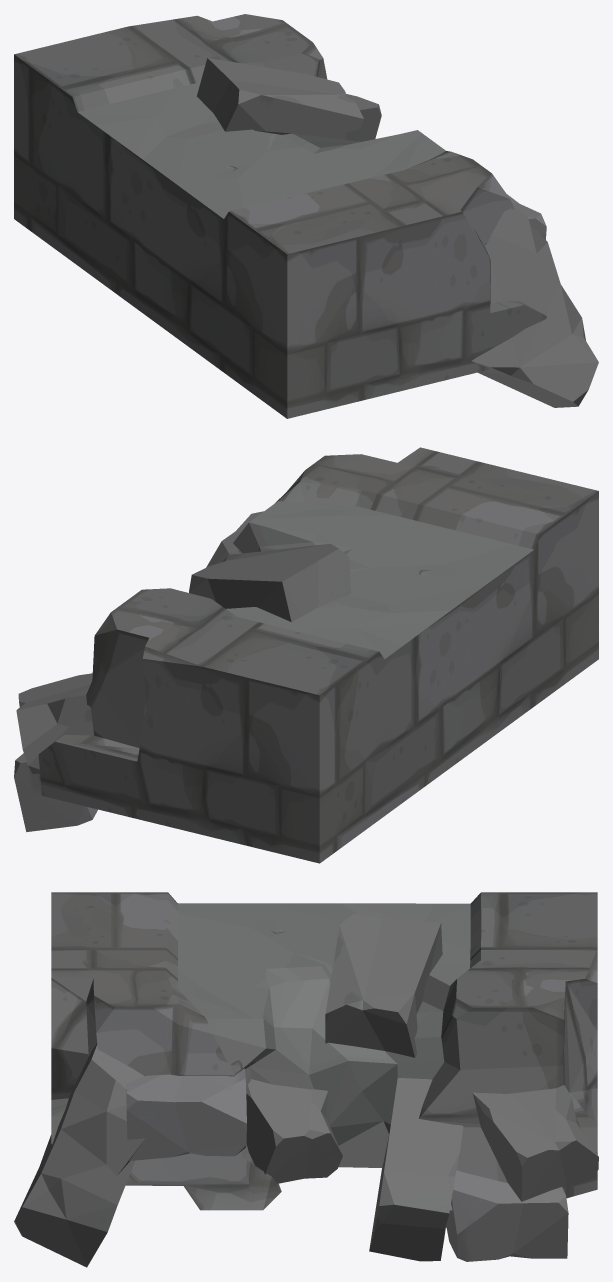
File: SM_Bld_Bridge_L_Broken_01.fbx
3 renders of one model, top to bottom at view 1: azimuth 30°, elevation 25°; view 2: azimuth 150°, elevation 25°; view 3: azimuth 270°, elevation 25°, orthographic. The views are drawn at different scales.
Parts seen in each view (by area): view 1: SM_Bld_Bridge_L_Broken_01; view 2: SM_Bld_Bridge_L_Broken_01; view 3: SM_Bld_Bridge_L_Broken_01.
Part boxes in pixels (<box>): SM_Bld_Bridge_L_Broken_01: <box>14,14,598,418</box>; SM_Bld_Bridge_L_Broken_01: <box>14,447,598,863</box>; SM_Bld_Bridge_L_Broken_01: <box>14,892,598,1267</box>.
Bounding box in the file's own units: 359 × 268 × 535.
